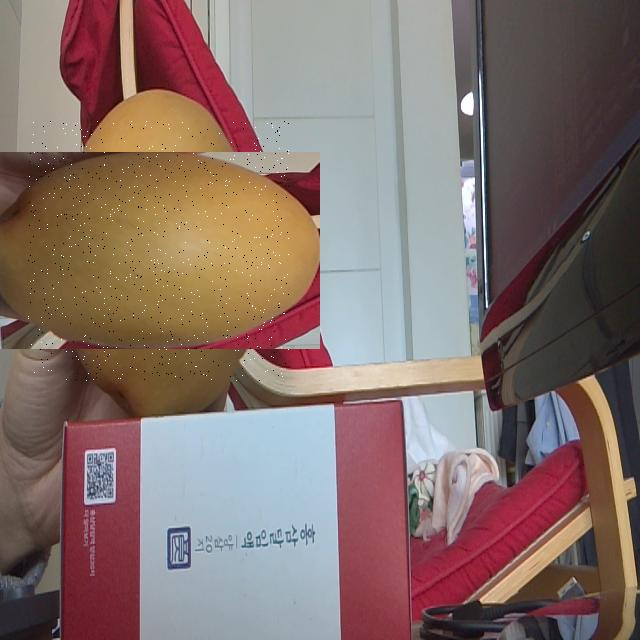pear: (28, 121, 289, 381)
